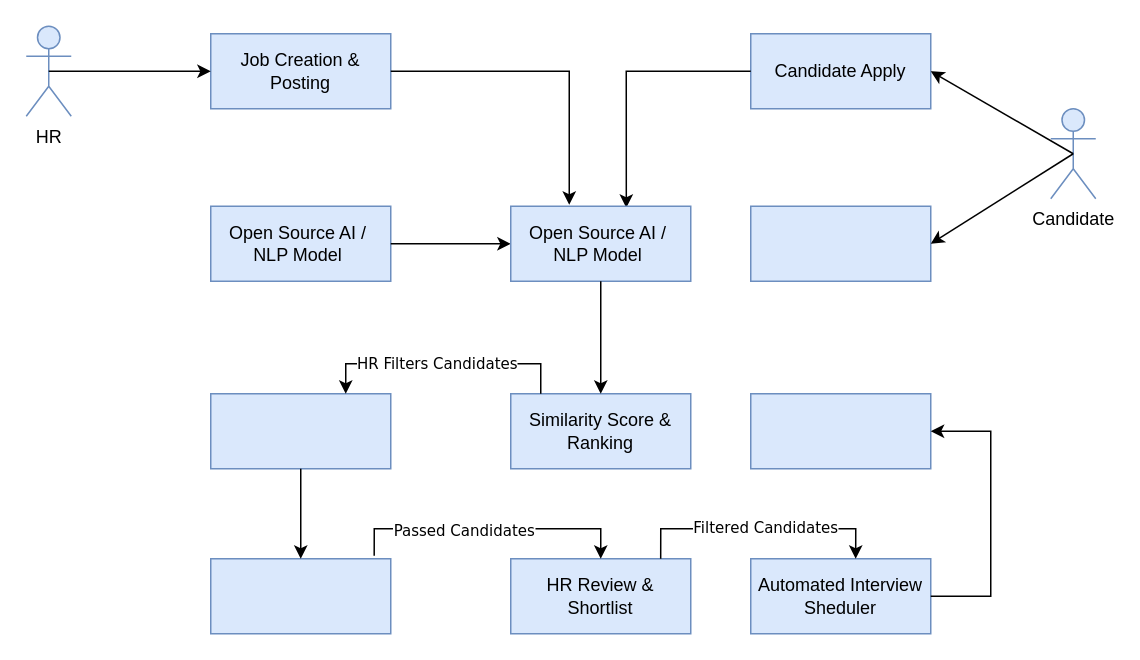
The diagram is 1140 pixels wide and 660 high, and some of its shapes have lost their labels. Each missing label, with the centre of its shape:
AI Chatbot: point (840, 243)
Audio/ Video Interview Analysis: point (300, 595)
Audio/ Video Interview Input: point (300, 430)
Decisioning & Offer Management: point (840, 430)
